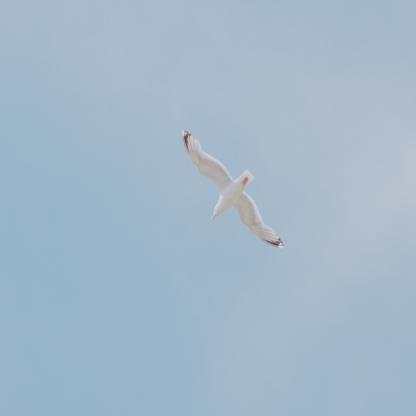bird: (181, 128, 284, 250)
